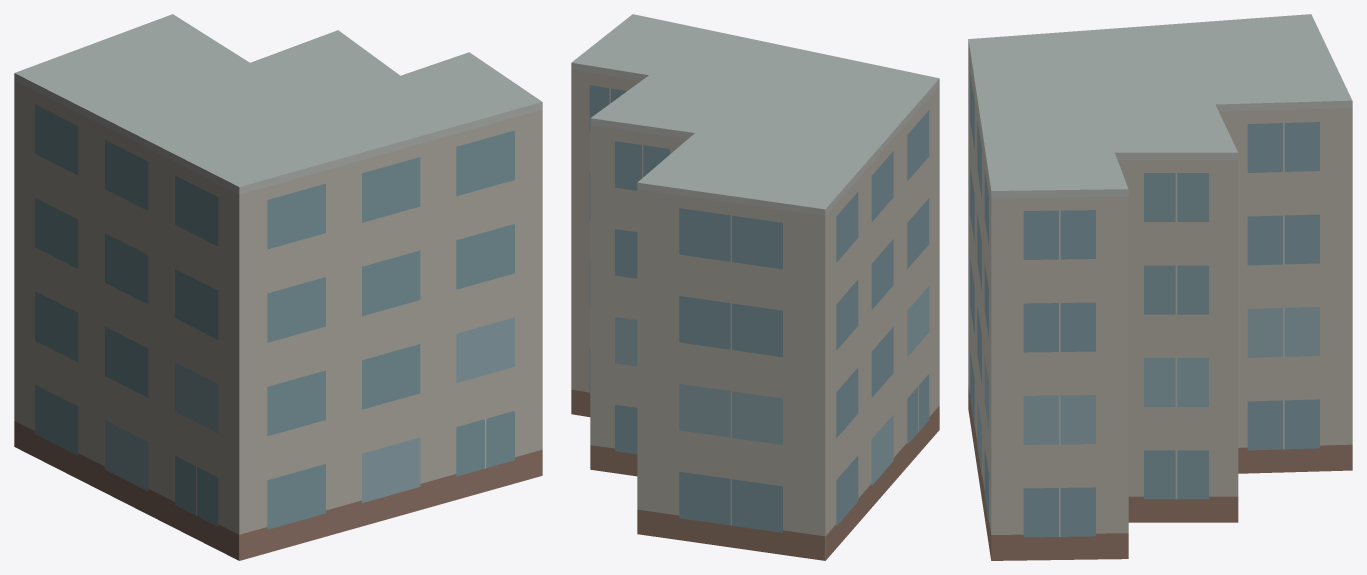
File: survey-upis-32840588.glb
3 views of the same model, side by side, from view 1: azimuth 30°, elevation 25°; view 2: azimuth 150°, elevation 25°; view 3: azimuth 270°, elevation 25° (orthographic). The views are drawn at different scales.
Visible parts, largest first — view 1: survey-upis-32840588.tmp; view 2: survey-upis-32840588.tmp; view 3: survey-upis-32840588.tmp.
Part boxes in pixels (x1,y1,x2,y2): survey-upis-32840588.tmp: (14, 14, 542, 560); survey-upis-32840588.tmp: (571, 14, 939, 560); survey-upis-32840588.tmp: (968, 14, 1352, 560).
Size of the model in its own units: 12.53 by 12.2 by 11.49.
